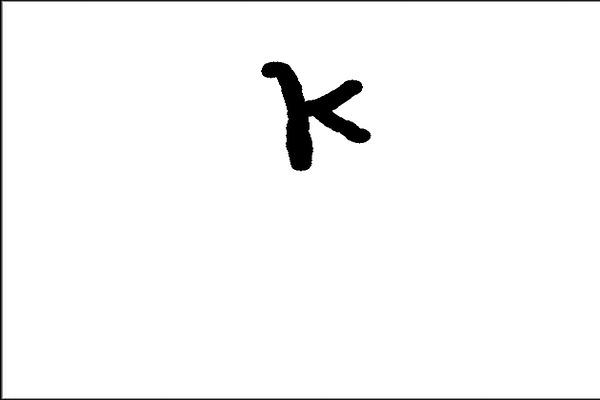K: (254, 52, 377, 175)
